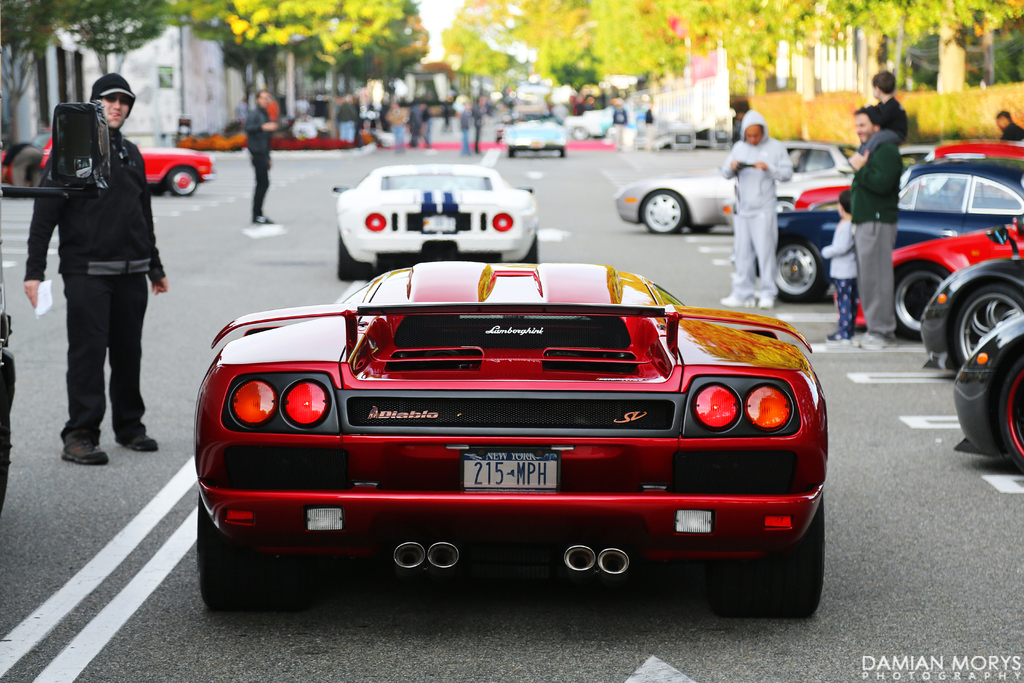license plate: (462, 450, 553, 489)
